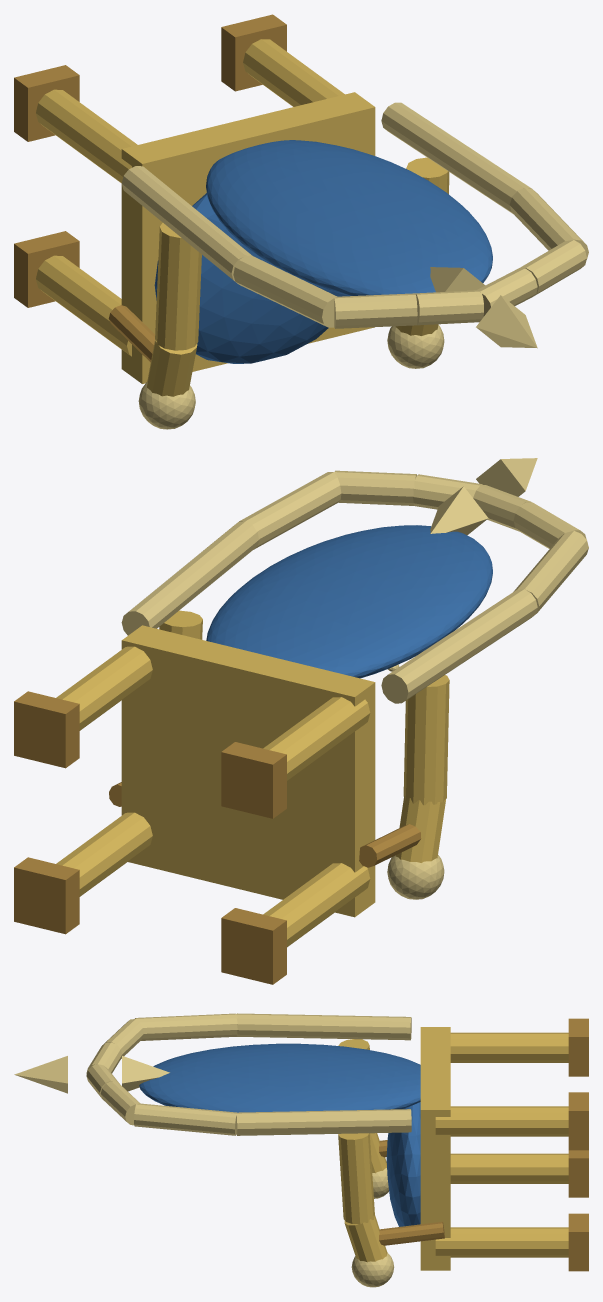
The model's file is chair_royal_sapphire.glb.
3 renders of one model, top to bottom at view 1: azimuth 30°, elevation 25°; view 2: azimuth 150°, elevation 25°; view 3: azimuth 270°, elevation 25°, orthographic. The views are drawn at different scales.
Visible parts, largest first — view 1: world; view 2: world; view 3: world.
Boxes of the visible parts, box(x1,y1,x2,y2) form: world: box(14, 14, 588, 429); world: box(14, 458, 588, 984); world: box(14, 1013, 588, 1287).
Size of the model in its own units: 0.9459 by 0.752 by 2.11.
